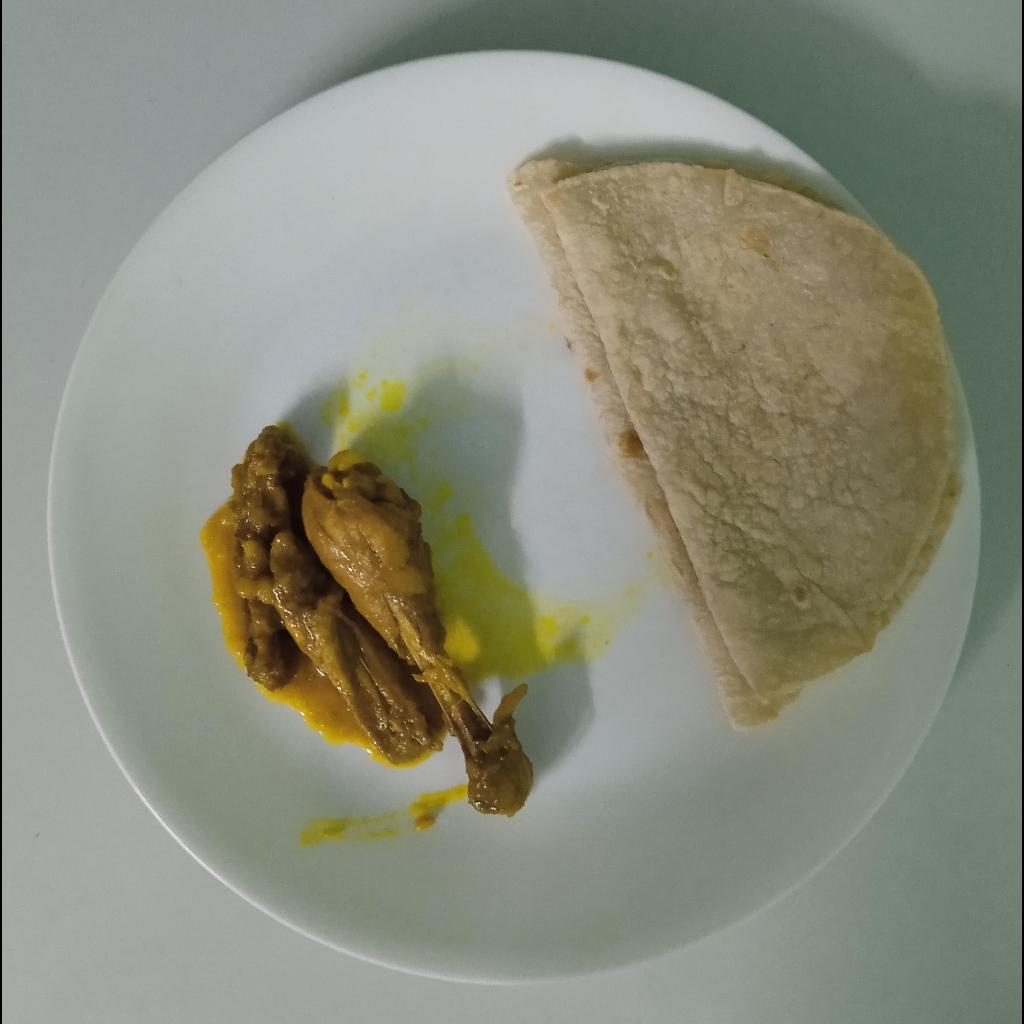chicken: (201, 425, 535, 818)
ruti: (512, 159, 962, 739)
